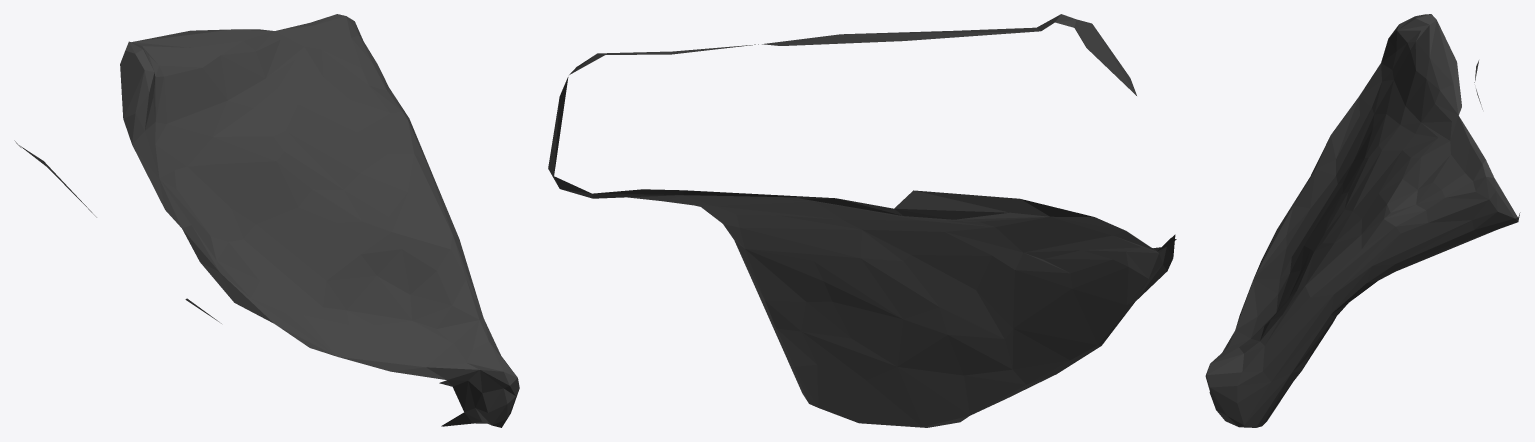
The model's file is cranial_pillar.glb.
3 views of the same model, side by side, from view 1: azimuth 30°, elevation 25°; view 2: azimuth 150°, elevation 25°; view 3: azimuth 270°, elevation 25° (orthographic). The views are drawn at different scales.
Visible parts, largest first — view 1: cranial_pillar; view 2: cranial_pillar; view 3: cranial_pillar.
Part boxes in pixels (x1,y1,x2,y2): cranial_pillar: (14, 14, 519, 427); cranial_pillar: (548, 14, 1176, 427); cranial_pillar: (1205, 14, 1520, 427).
Size of the model in its own units: 0.5946 by 0.5837 by 0.5362.
1 material, 1 textured.
